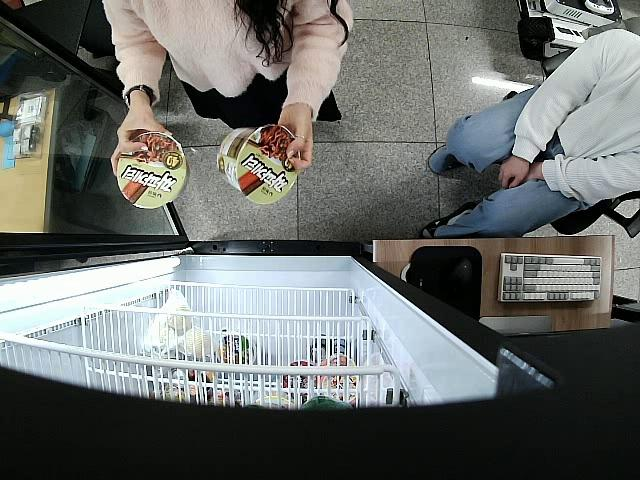00_hand: (111, 116, 174, 177), (276, 108, 314, 175)
03_chapagetti_L: (218, 124, 300, 203), (116, 133, 190, 211)
